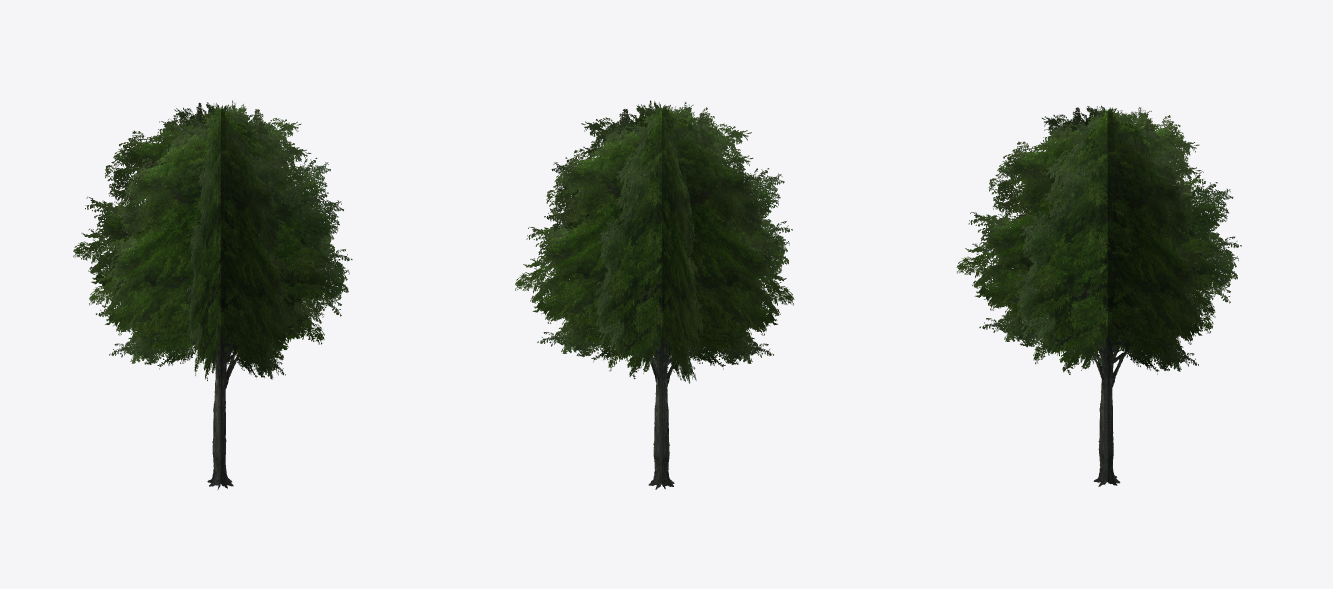
The model's file is Tree_02_STATIC.fbx.
3 renders of one model, left to right at view 1: azimuth 30°, elevation 25°; view 2: azimuth 150°, elevation 25°; view 3: azimuth 270°, elevation 25°, orthographic.
Visible parts, largest first — view 1: Tree_02_Static; view 2: Tree_02_Static; view 3: Tree_02_Static.
Part boxes in pixels (x1=…): Tree_02_Static: x1=73, y1=100, x2=352, y2=489; Tree_02_Static: x1=515, y1=100, x2=794, y2=489; Tree_02_Static: x1=956, y1=105, x2=1241, y2=486.
Size of the model in its own units: 1420 by 1420 by 1420.
